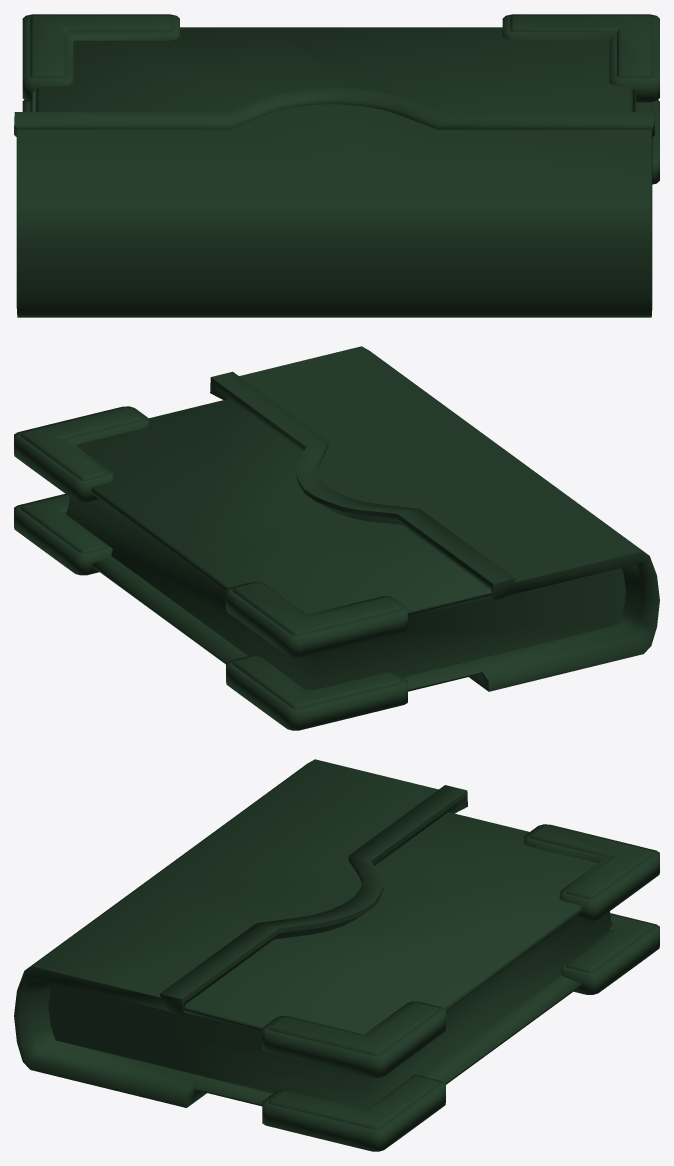
The model's file is grimoire.glb.
The picture shows the model from 3 angles, top to bottom: view 1: azimuth 30°, elevation 25°; view 2: azimuth 150°, elevation 25°; view 3: azimuth 270°, elevation 25°; orthographic projection. The views are drawn at different scales.
Parts seen in each view (by area): view 1: Book; view 2: Book; view 3: Book.
Part boxes in pixels (<box>): Book: <box>14,14,659,317</box>; Book: <box>14,346,659,730</box>; Book: <box>14,759,659,1151</box>.
Bounding box in the file's own units: 0.9903 × 0.1685 × 0.9066.
